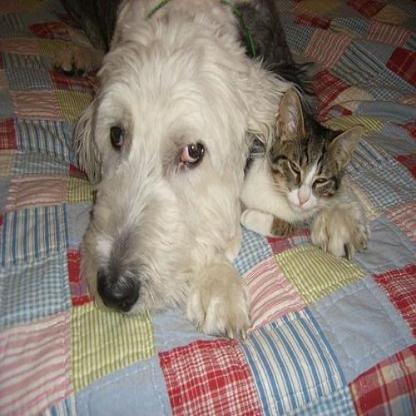Old_English_sheepdog: (73, 0, 278, 339)
